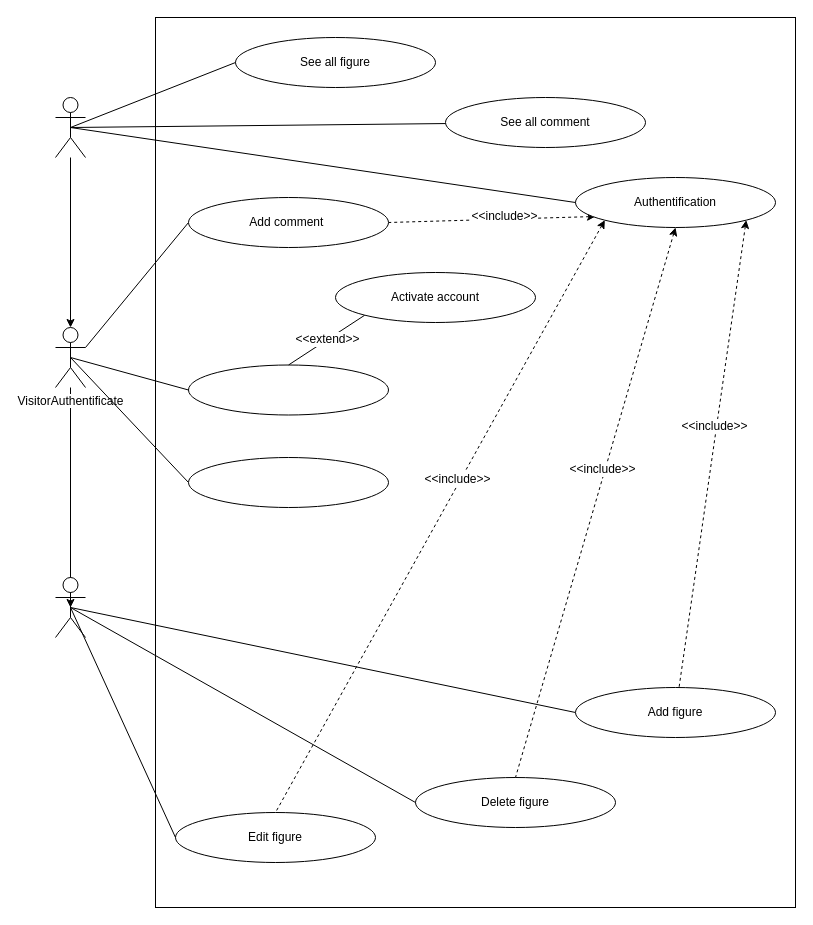
This 813x925 diagram has some shape labels left out. Each missing label, with the box of its shape:
Administrator: (54, 576, 86, 638)
Create account: (188, 364, 388, 415)
Reset password: (188, 456, 388, 508)
Visitor: (54, 96, 86, 158)
